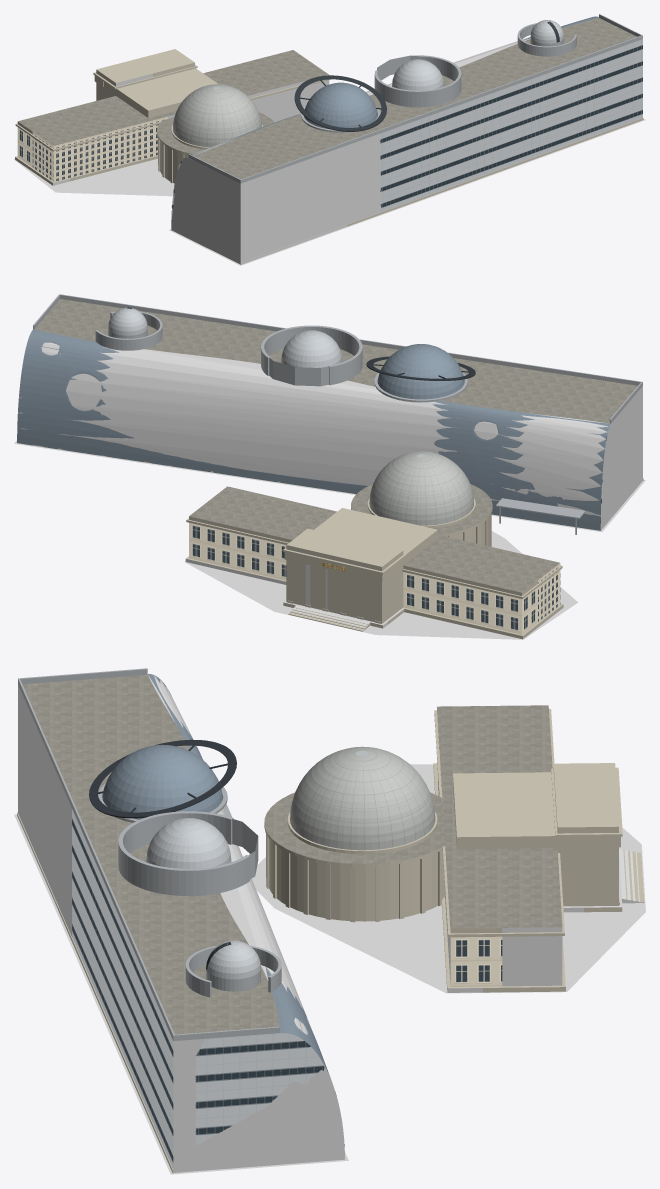
The model's file is planetarium.glb.
The picture shows the model from 3 angles, top to bottom: view 1: azimuth 30°, elevation 25°; view 2: azimuth 150°, elevation 25°; view 3: azimuth 270°, elevation 25°; orthographic projection. The views are drawn at different scales.
Parts seen in each view (by area): view 1: Planetarium, COL_b_body, Massing, FOOTPRINT_a_foot, COL_a_wings, FOOTPRINT_b_foot; view 2: Planetarium, COL_b_body, Massing, FOOTPRINT_a_foot, FOOTPRINT_b_foot, WALK_a_steps; view 3: Planetarium, COL_b_body, Massing, FOOTPRINT_a_foot, COL_a_wings, FOOTPRINT_b_foot, WALK_a_steps.
Part boxes in pixels (left/top/right/bottom): Planetarium: left=15, top=14, right=643, bottom=262; COL_b_body: left=171, top=37, right=530, bottom=263; Massing: left=32, top=24, right=563, bottom=219; FOOTPRINT_a_foot: left=14, top=159, right=174, bottom=196; COL_a_wings: left=168, top=75, right=329, bottom=122; FOOTPRINT_b_foot: left=169, top=119, right=645, bottom=265; Planetarium: left=17, top=294, right=643, bottom=639; COL_b_body: left=17, top=342, right=642, bottom=530; Massing: left=42, top=309, right=615, bottom=622; FOOTPRINT_a_foot: left=185, top=531, right=577, bottom=639; FOOTPRINT_b_foot: left=14, top=440, right=645, bottom=531; WALK_a_steps: left=290, top=605, right=370, bottom=629; Planetarium: left=17, top=668, right=644, bottom=1173; COL_b_body: left=18, top=675, right=344, bottom=1172; Massing: left=113, top=686, right=618, bottom=1146; FOOTPRINT_a_foot: left=251, top=764, right=645, bottom=993; COL_a_wings: left=442, top=803, right=562, bottom=986; FOOTPRINT_b_foot: left=14, top=814, right=348, bottom=1174; WALK_a_steps: left=619, top=849, right=642, bottom=903.
Bounding box in the file's own units: 174 × 35.5 × 113.
13 materials, 4 textured.
